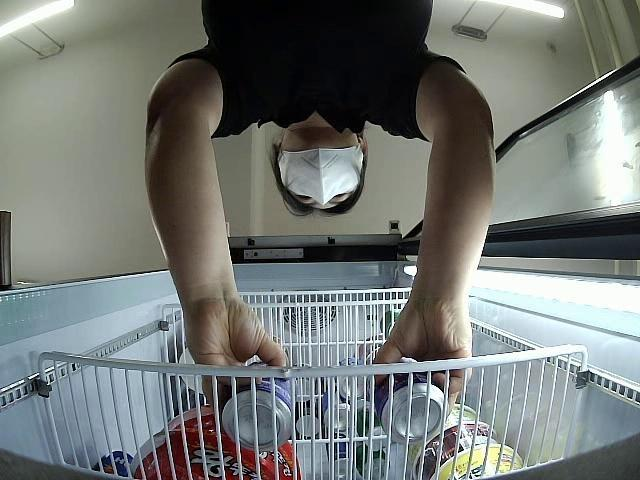14_welchsGrape: (222, 360, 296, 452), (378, 370, 448, 446)
